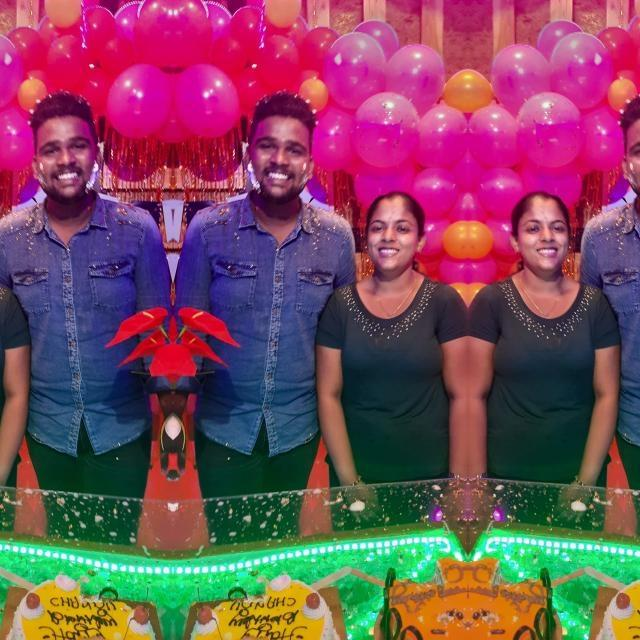person: (208, 85, 328, 497), (16, 85, 136, 497), (350, 194, 448, 474), (486, 194, 584, 474), (606, 85, 640, 497)
